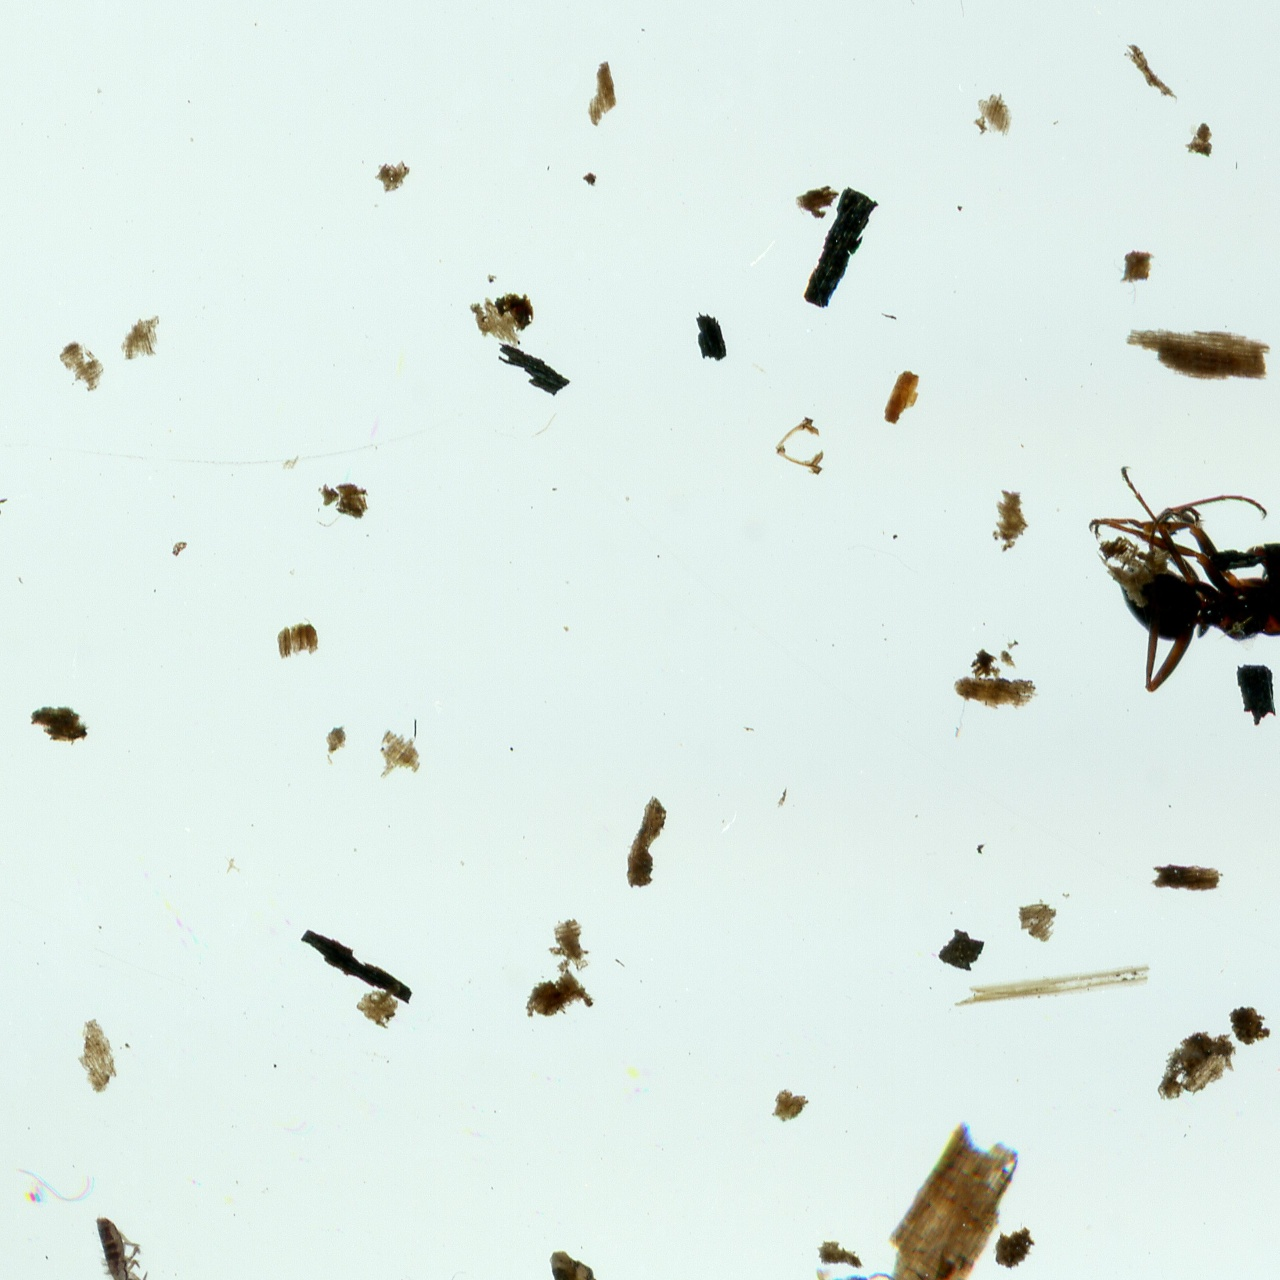arthropod: (1082, 457, 1280, 701), (62, 1186, 190, 1280), (797, 1261, 905, 1280)
